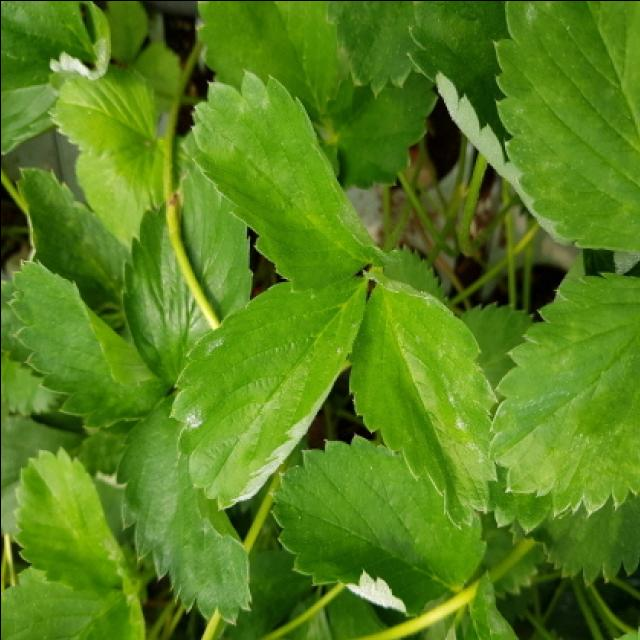Powdery Mildew Leaf: (168, 274, 368, 514), (270, 432, 487, 616), (349, 269, 500, 531), (404, 2, 534, 217), (46, 2, 110, 78)
